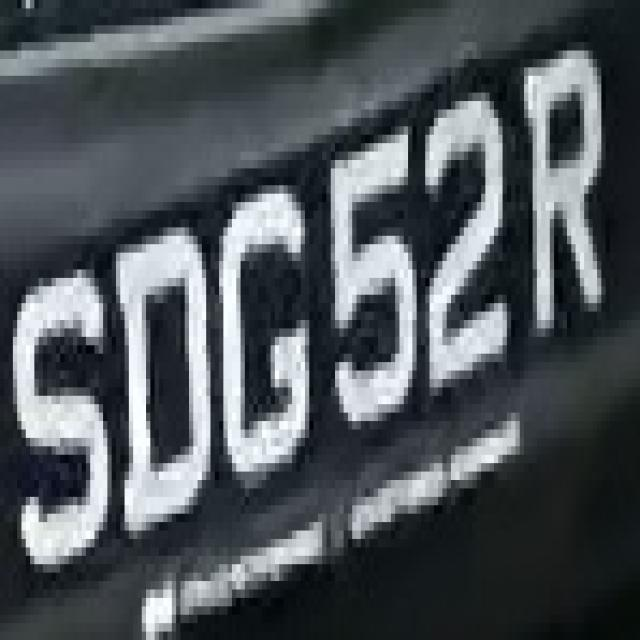2: (412, 84, 516, 421)
5: (313, 118, 421, 421)
D: (107, 210, 215, 556)
G: (206, 168, 314, 514)
R: (511, 34, 627, 354)
S: (0, 227, 120, 589)
